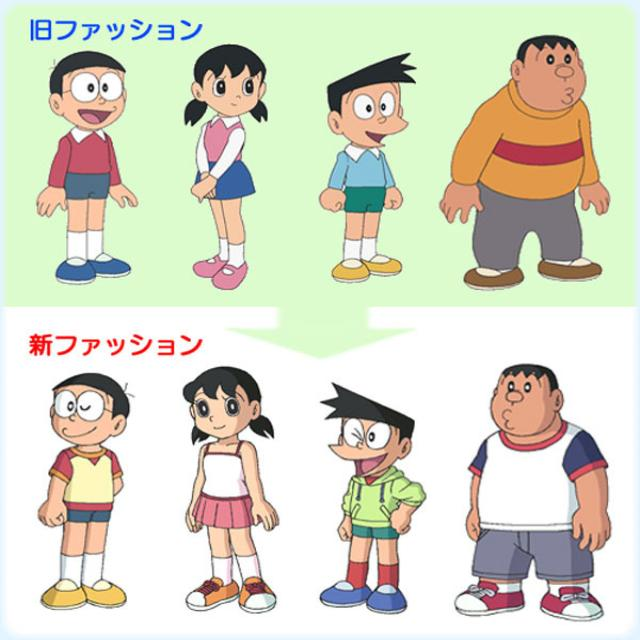jaian: (485, 358, 575, 445), (505, 32, 593, 118)
nobita: (40, 50, 134, 134), (48, 369, 135, 459)
shizuka: (180, 359, 274, 454), (182, 37, 272, 132)
suneo: (320, 379, 418, 487), (322, 52, 417, 153)
